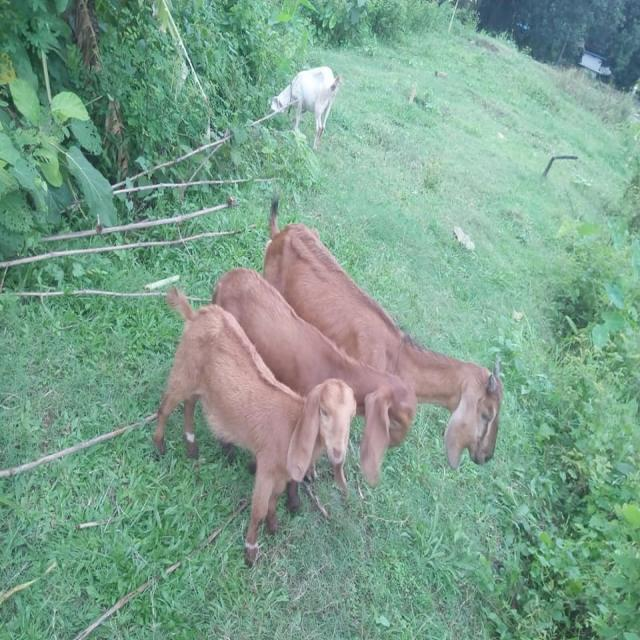Goat: (263, 196, 503, 470), (154, 284, 358, 566), (211, 265, 419, 493), (250, 64, 343, 151)
